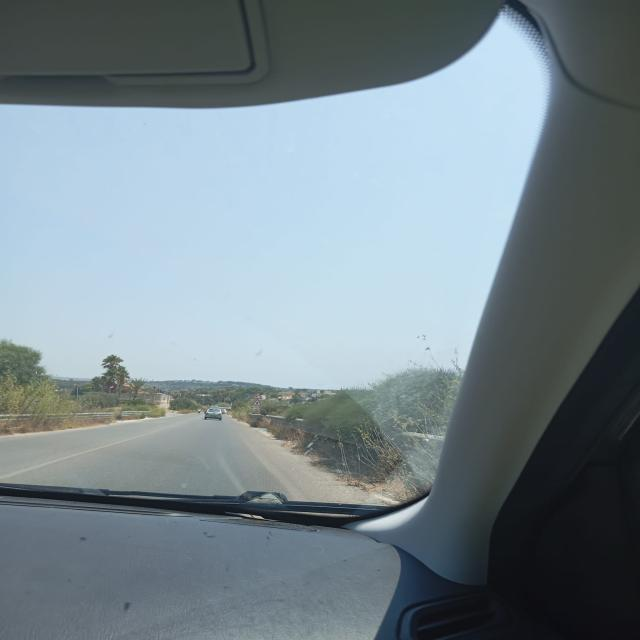warn_right_curve: (253, 392, 263, 400)
